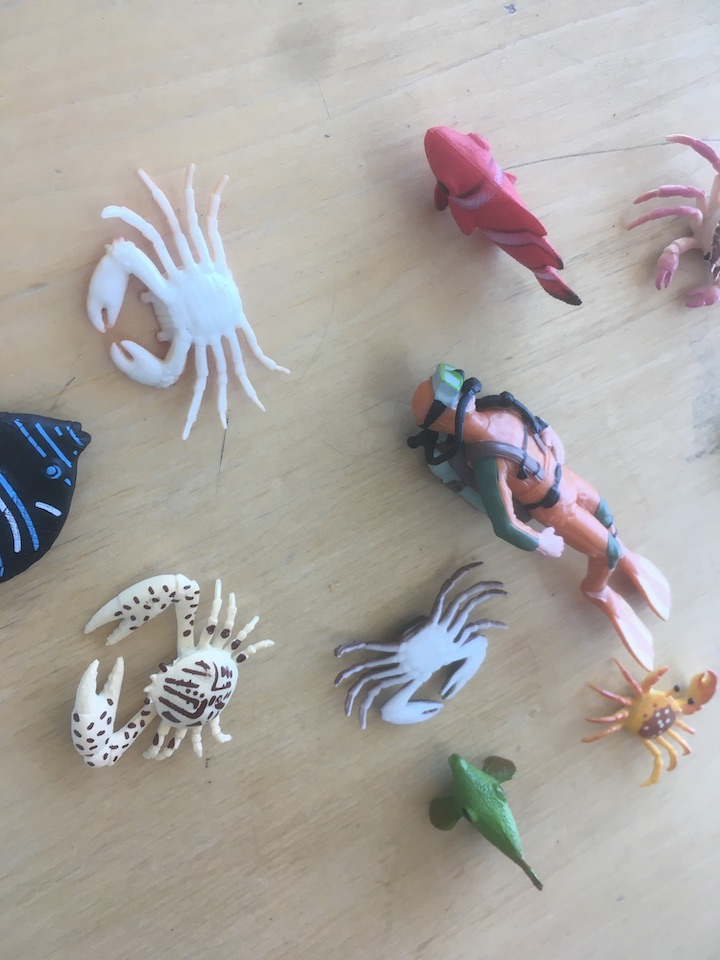crab: (80, 156, 295, 442), (66, 567, 283, 776), (328, 554, 520, 733), (574, 656, 720, 792), (620, 130, 720, 313)
diver: (397, 358, 679, 681)
fish: (417, 113, 587, 313), (422, 738, 550, 902), (1, 401, 93, 592)
